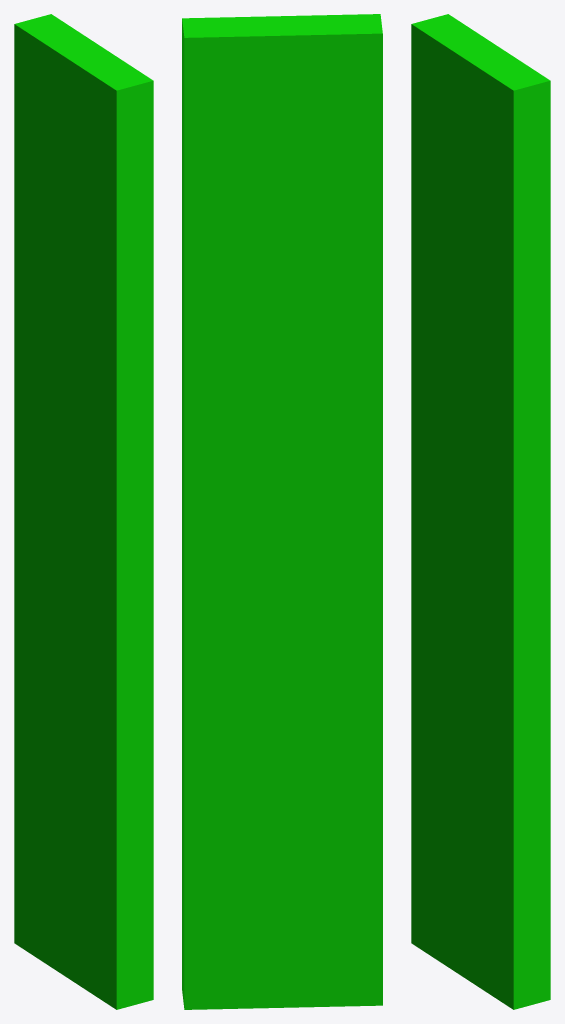
The picture shows the model from 3 angles, left to right: view 1: azimuth 90°, elevation 25°; view 2: azimuth 150°, elevation 25°; view 3: azimuth 270°, elevation 25°; orthographic projection. The views are drawn at different scales.
Visible parts, largest first — view 1: Cube.007; view 2: Cube.007; view 3: Cube.007.
Boxes of the visible parts, x1=… form: Cube.007: x1=14, y1=14, x2=153, y2=1009; Cube.007: x1=182, y1=14, x2=382, y2=1009; Cube.007: x1=411, y1=14, x2=550, y2=1009.
Bounding box in the file's own units: 330 × 1846 × 253.
